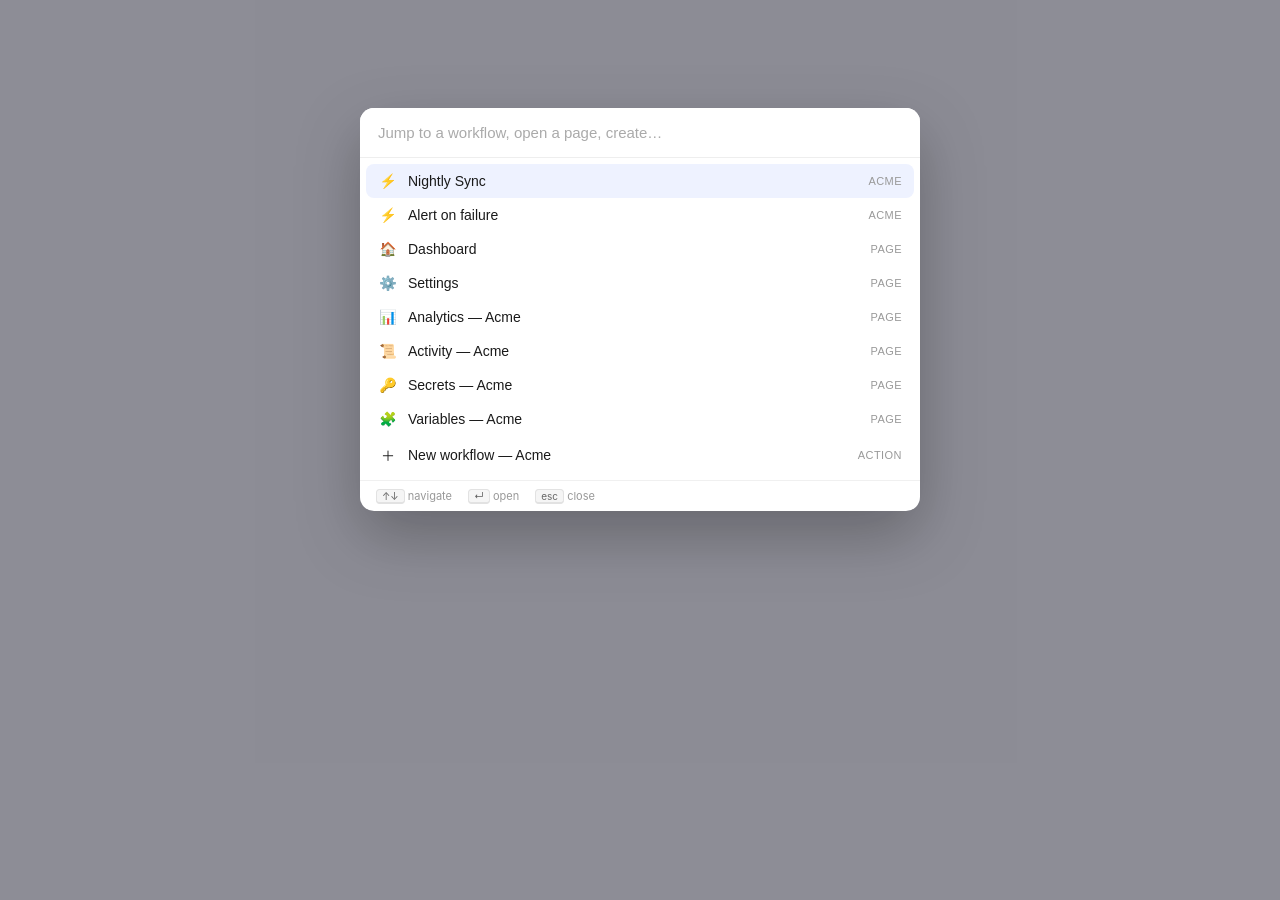
Scenario: CommandPalette › fuzzy-filters results as you type
This screenshot has width=1280, height=900.
Expected: the text "Nightly Sync" is shown, [408,173,486,189]
Type "nsync" into the field named "Search" at coordinates (640, 133), box [360,108,920,158]
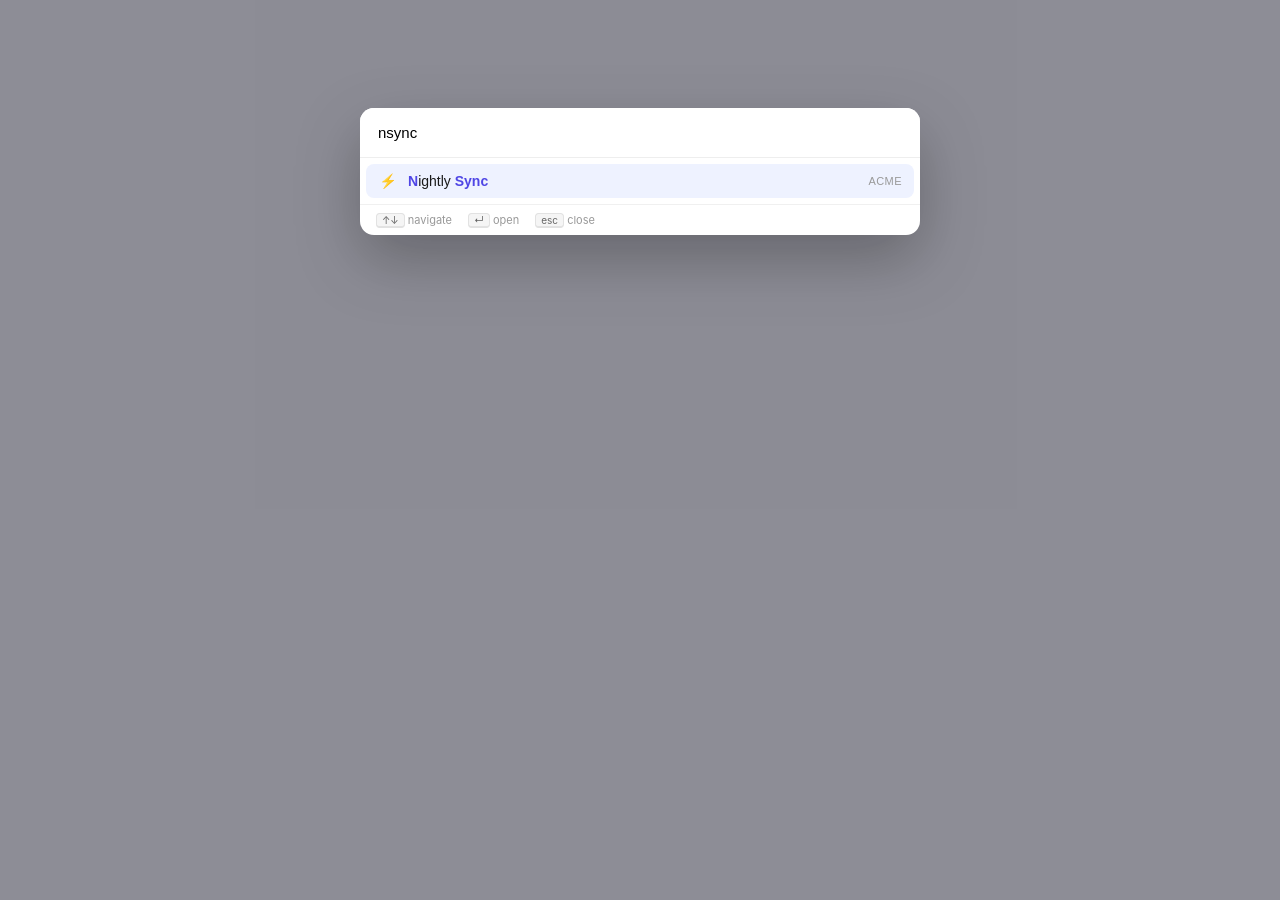
Expected: the text "Sync" is shown, [455,173,488,189]
Now the option "Alert on failure" is gone
Now the option "Dashboard" is gone
